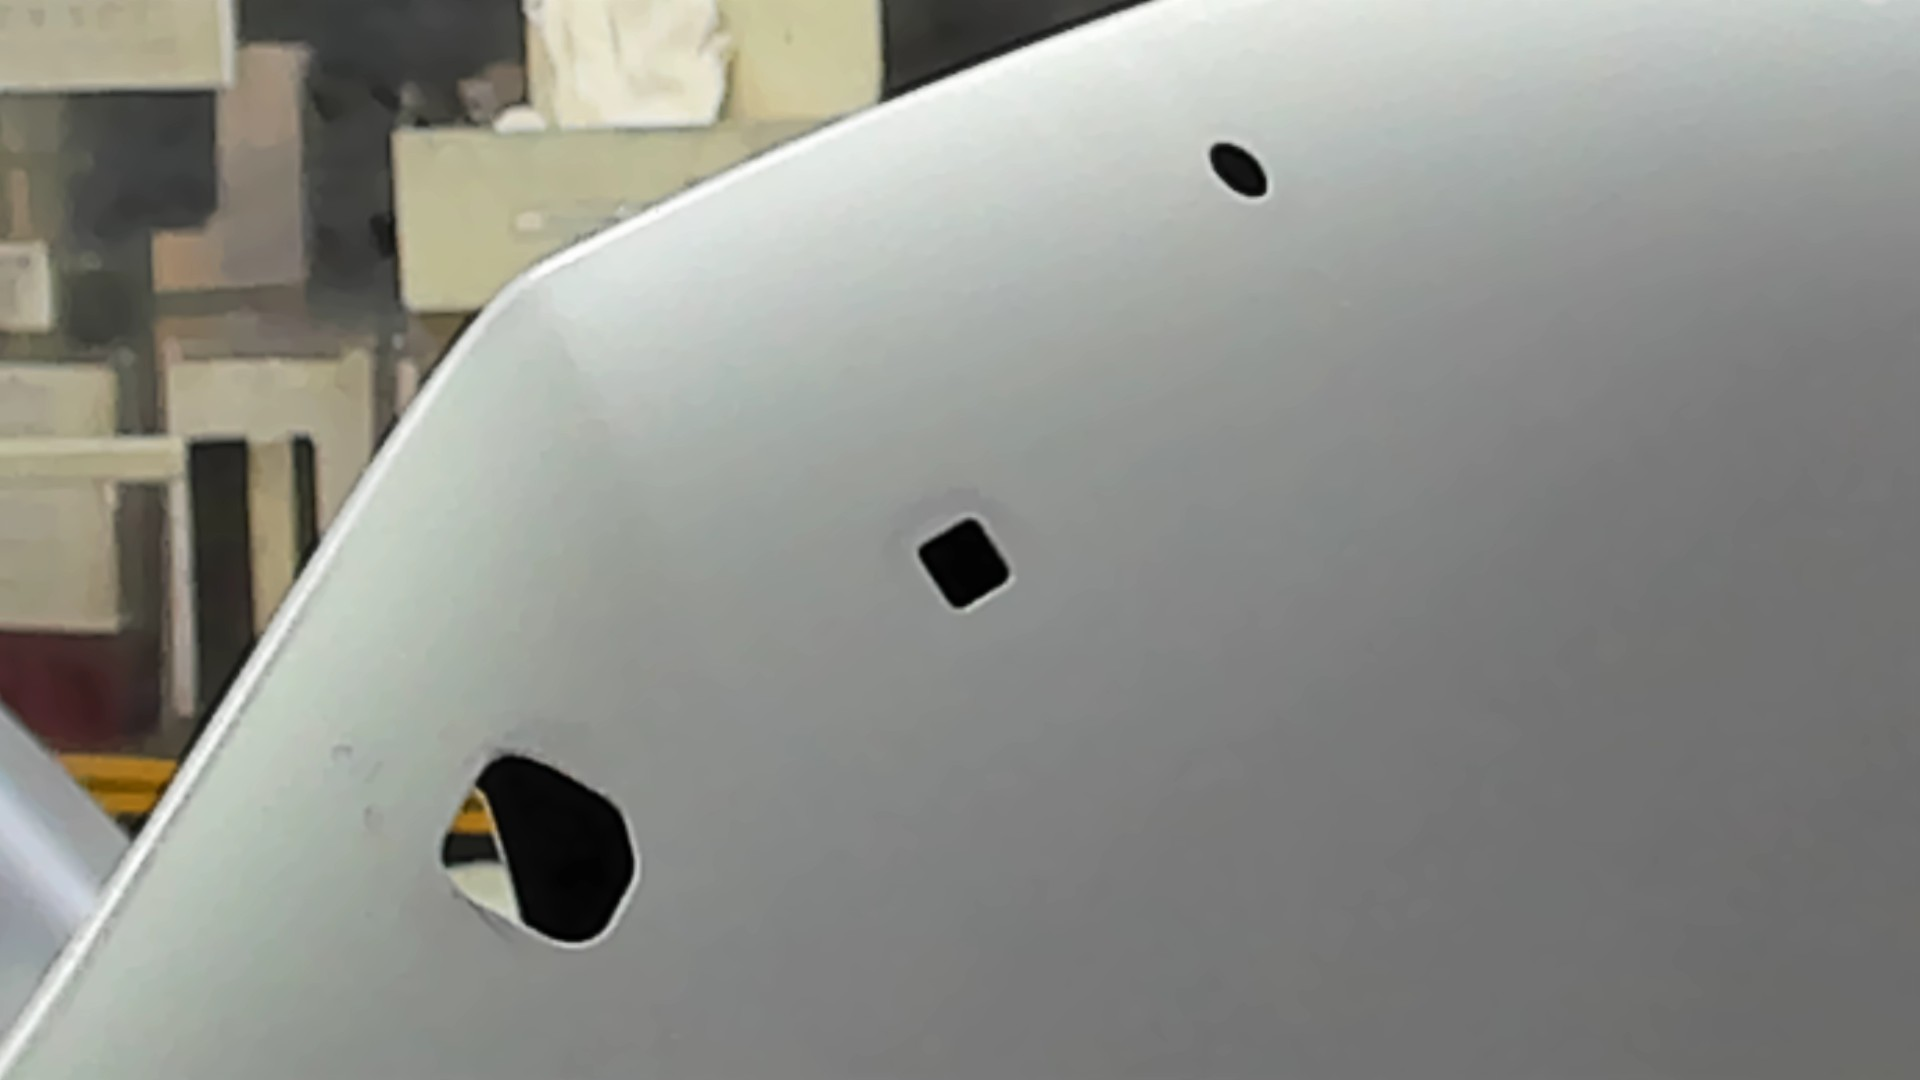capo: (1055, 215, 1920, 1080)
chico: (1199, 135, 1276, 200)
grande: (433, 745, 649, 953)
mediano: (909, 505, 1023, 618)
